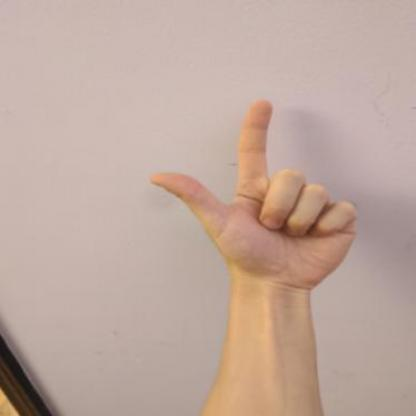L: (138, 94, 366, 301)
